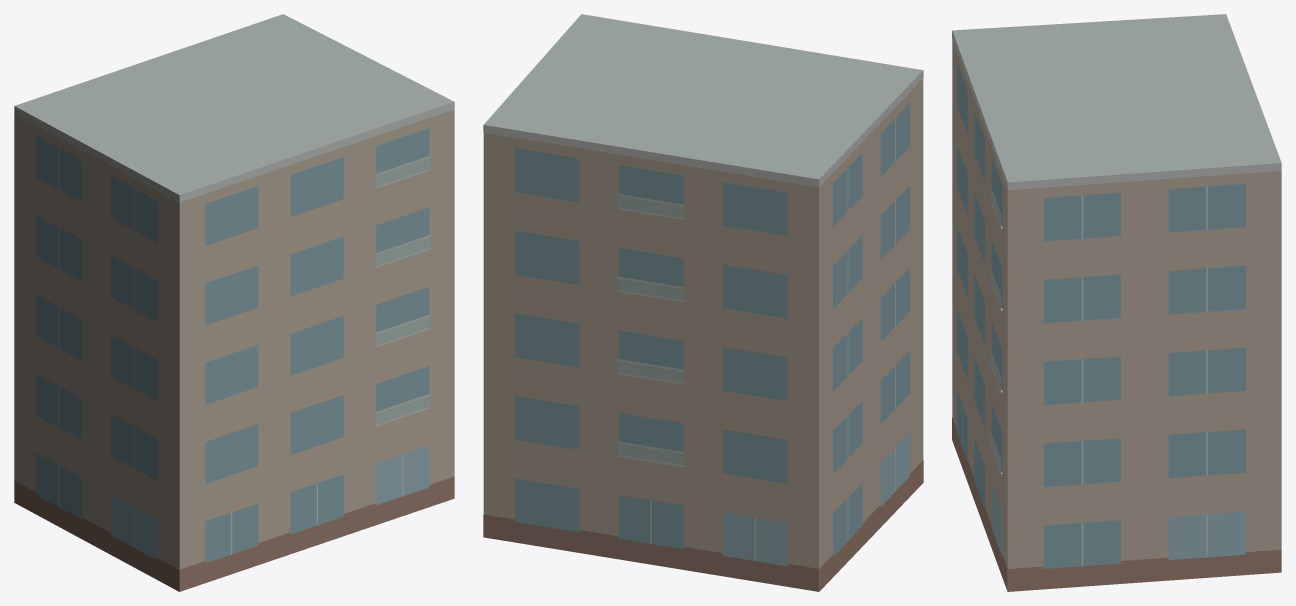
The model's file is survey-upis-32995114.glb.
The picture shows the model from 3 angles, left to right: view 1: azimuth 30°, elevation 25°; view 2: azimuth 150°, elevation 25°; view 3: azimuth 270°, elevation 25°; orthographic projection. The views are drawn at different scales.
Parts seen in each view (by area): view 1: survey-upis-32995114.tmp; view 2: survey-upis-32995114.tmp; view 3: survey-upis-32995114.tmp.
Boxes of the visible parts, x1,y1,x2,y2 form: survey-upis-32995114.tmp: (14,14,454,591); survey-upis-32995114.tmp: (483,14,923,591); survey-upis-32995114.tmp: (952,14,1281,591).
Bounding box in the file's own units: 11.3 × 12.8 × 9.35.
